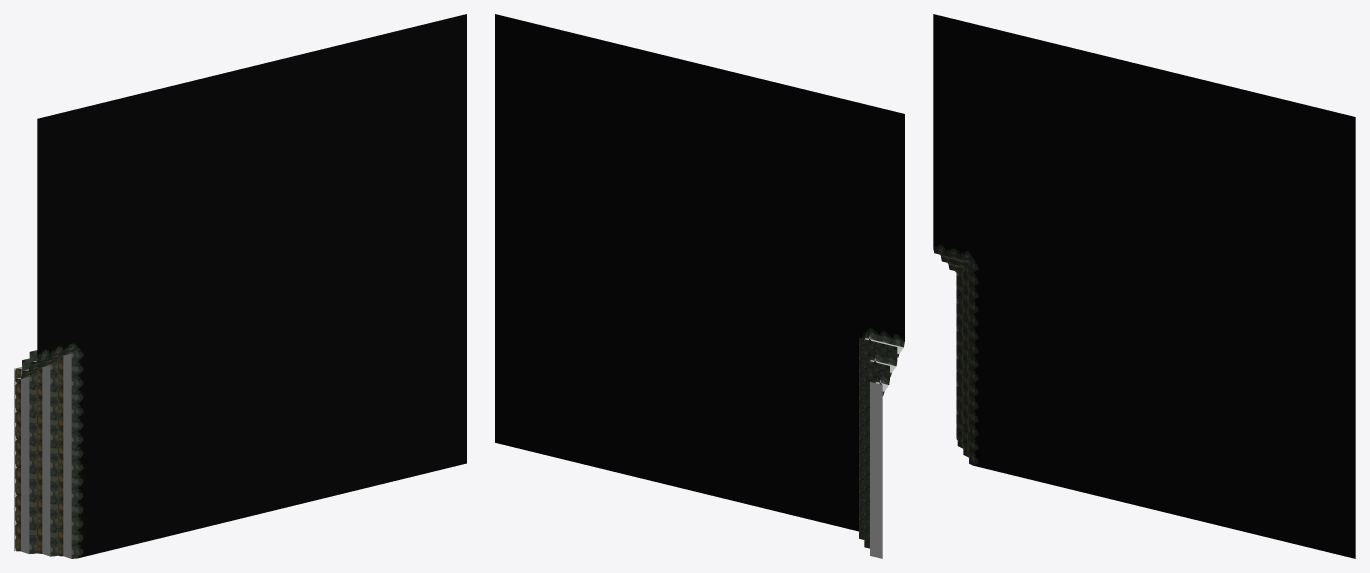
The model's file is Victory-Road-3_05_03.obj.
3 views of the same model, side by side, from view 1: azimuth 30°, elevation 25°; view 2: azimuth 150°, elevation 25°; view 3: azimuth 330°, elevation 25° (orthographic). The views are drawn at different scales.
Visible parts, largest first — view 1: map; view 2: map; view 3: map.
Part boxes in pixels (box(x1,y1,x2,y2)): map: box(14, 14, 466, 558); map: box(495, 14, 904, 558); map: box(933, 14, 1355, 558).
Size of the model in its own units: 32 by 32 by 3.
